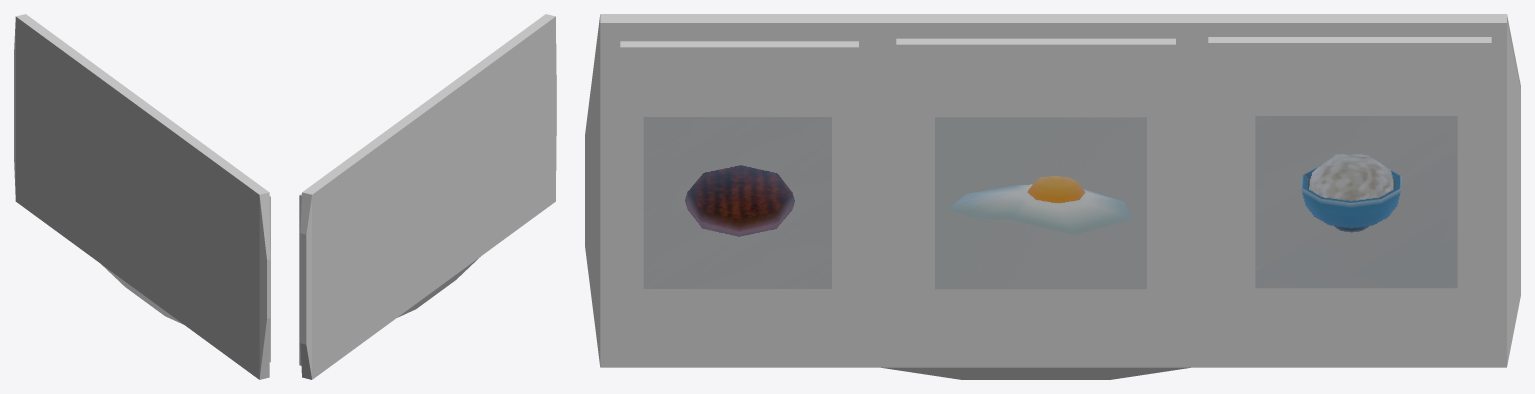
File: burger sign.fbx
3 views of the same model, side by side, from view 1: azimuth 30°, elevation 25°; view 2: azimuth 150°, elevation 25°; view 3: azimuth 270°, elevation 25° (orthographic). The views are drawn at different scales.
Visible parts, largest first — view 1: SPEECH BUBBLE; view 2: SPEECH BUBBLE; view 3: SPEECH BUBBLE, SPEECH BUBBLE.003, SPEECH BUBBLE.002, SPEECH BUBBLE.001, sisig order, rice order, burgersteak order.
Part boxes in pixels (x1,y1,x2,y2): SPEECH BUBBLE: (14, 14, 270, 379); SPEECH BUBBLE: (299, 14, 556, 379); SPEECH BUBBLE: (585, 14, 1520, 379); SPEECH BUBBLE.003: (1208, 43, 1491, 359); SPEECH BUBBLE.002: (896, 44, 1175, 357); SPEECH BUBBLE.001: (620, 47, 858, 355); sisig order: (935, 117, 1146, 289); rice order: (1255, 116, 1457, 288); burgersteak order: (643, 117, 831, 288).
Bounding box in the file's own units: 21.31 × 209 × 493.
